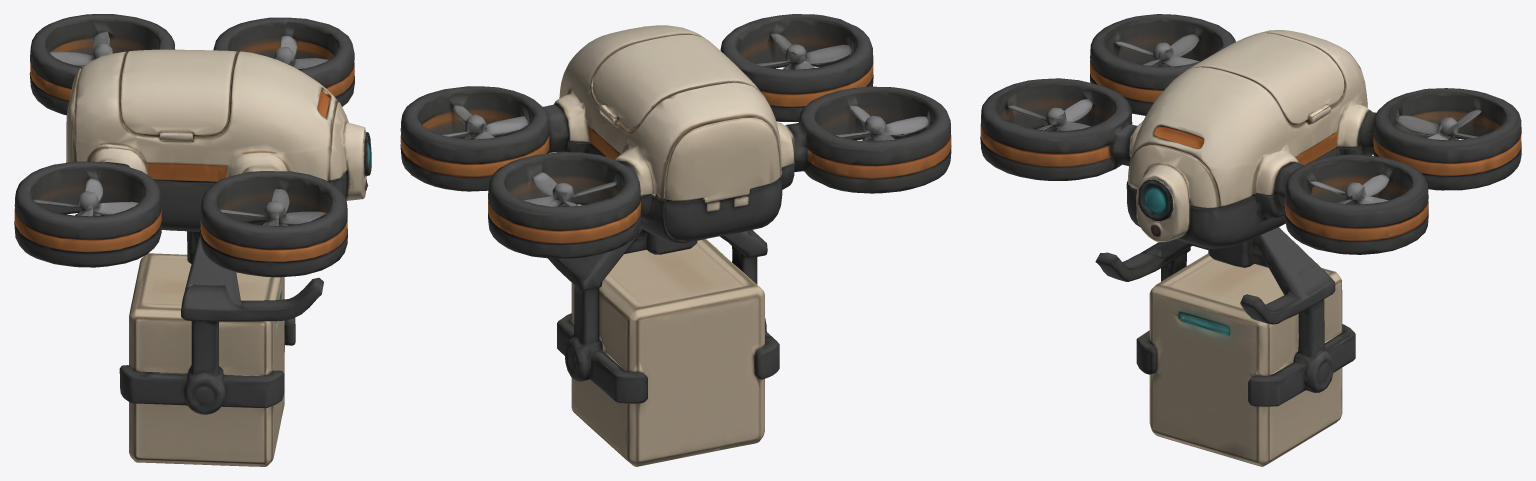
The model's file is etalon-dron.glb.
3 views of the same model, side by side, from view 1: azimuth 30°, elevation 25°; view 2: azimuth 150°, elevation 25°; view 3: azimuth 270°, elevation 25° (orthographic). The views are drawn at different scales.
Parts seen in each view (by area): view 1: tripo_node_f2b3490d-cfb5-4196-920d-83ef4c769658; view 2: tripo_node_f2b3490d-cfb5-4196-920d-83ef4c769658; view 3: tripo_node_f2b3490d-cfb5-4196-920d-83ef4c769658.
Part boxes in pixels (bbox=[...]): tripo_node_f2b3490d-cfb5-4196-920d-83ef4c769658: bbox=[14, 14, 371, 466]; tripo_node_f2b3490d-cfb5-4196-920d-83ef4c769658: bbox=[400, 14, 951, 466]; tripo_node_f2b3490d-cfb5-4196-920d-83ef4c769658: bbox=[980, 14, 1521, 466].
Bounding box in the file's own units: 0.9589 × 0.8138 × 1.09.
1 material, 1 textured.
